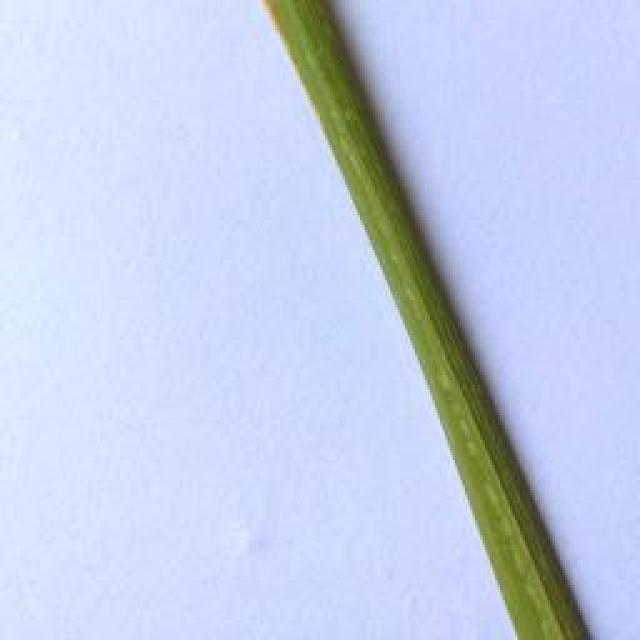Bacterial_Blight: (245, 0, 297, 38)
